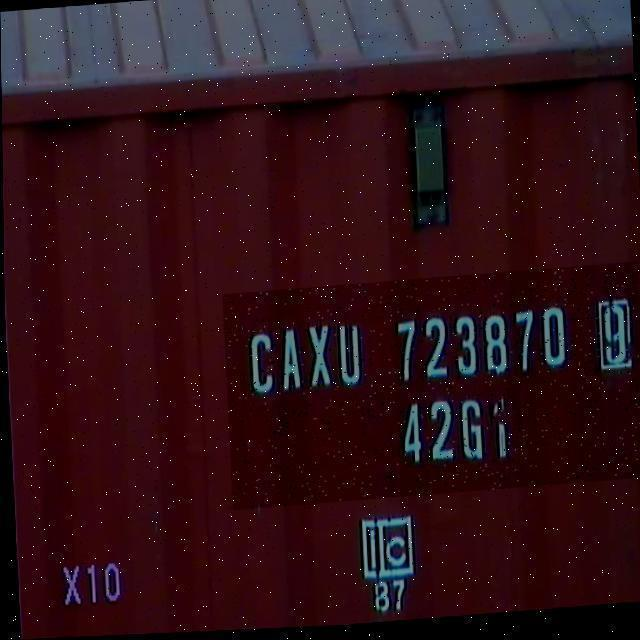ISO: (388, 398, 525, 472)
container_number: (252, 293, 626, 401)
